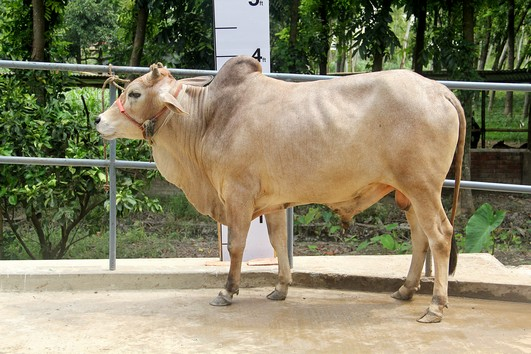cow: (89, 52, 470, 322)
